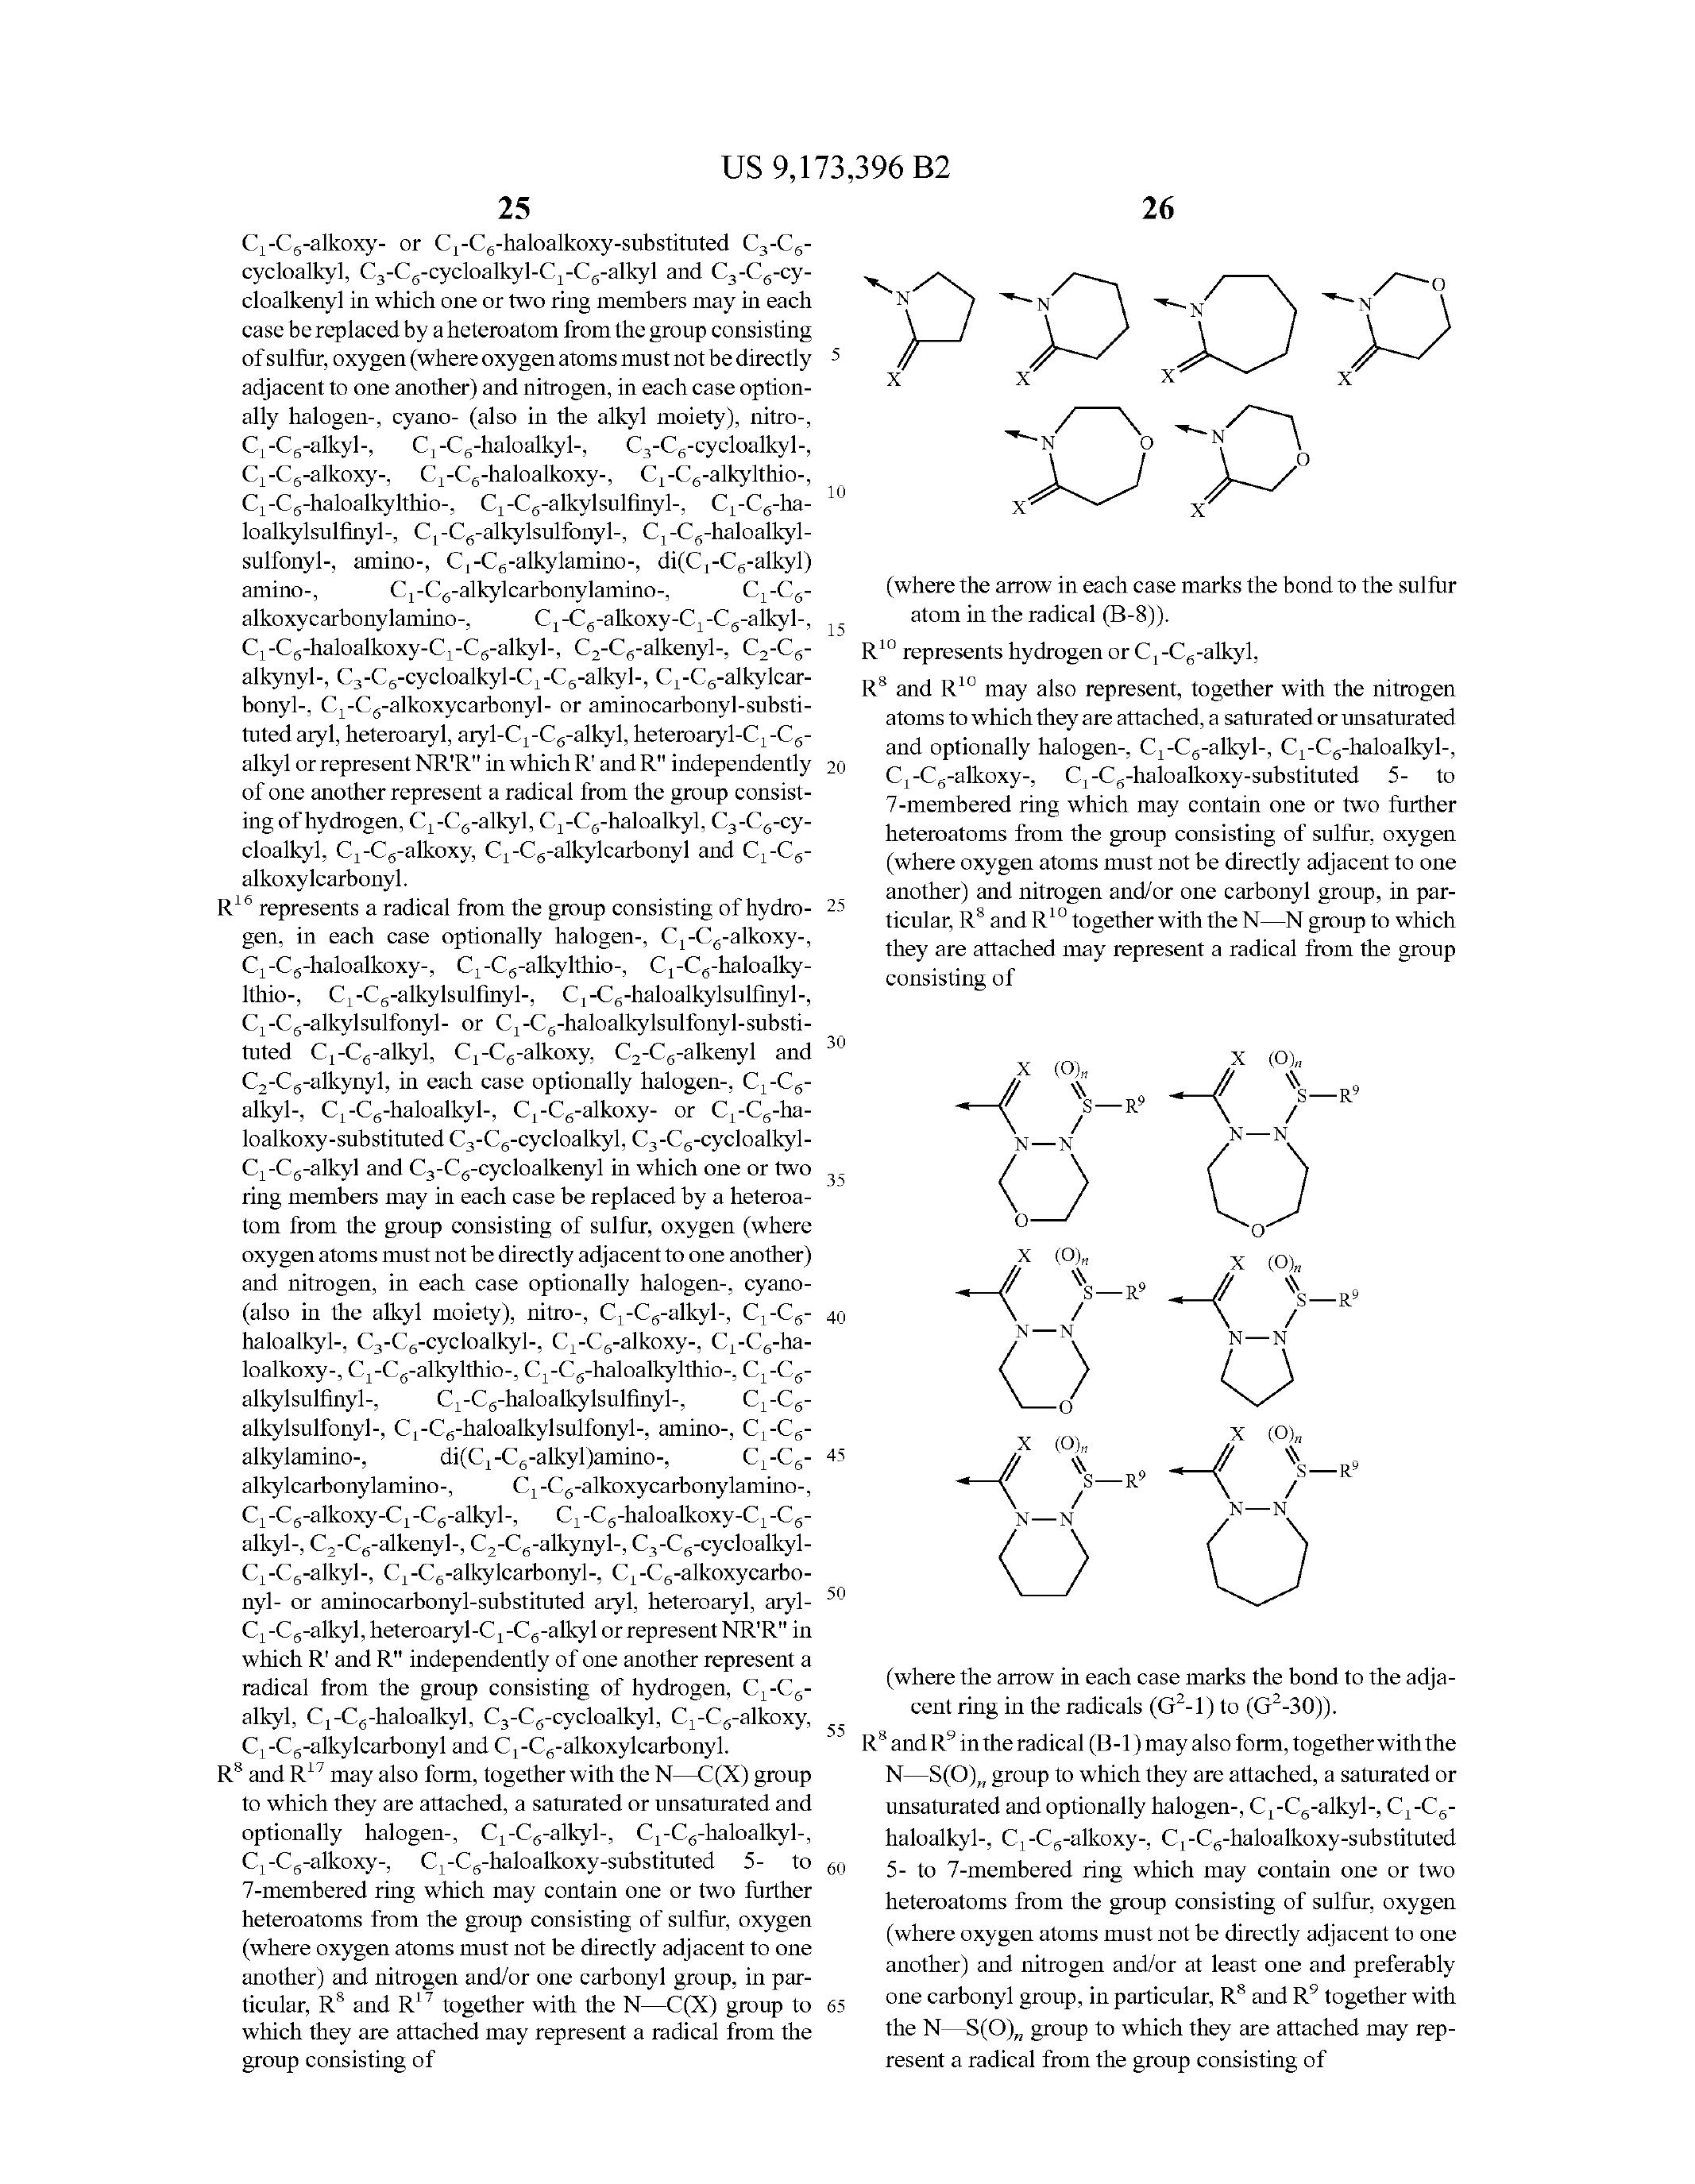relevant-structures: (885, 1018, 1426, 1620)
